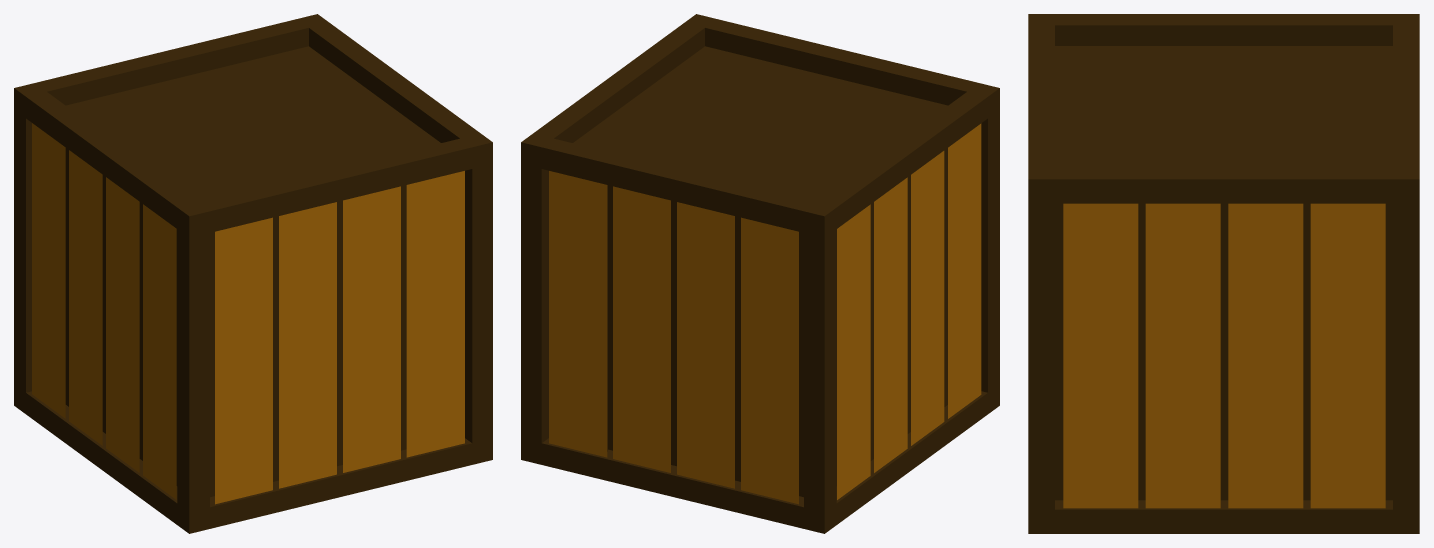
File: Crate.fbx
3 views of the same model, side by side, from view 1: azimuth 30°, elevation 25°; view 2: azimuth 150°, elevation 25°; view 3: azimuth 270°, elevation 25° (orthographic). The views are drawn at different scales.
Visible parts, largest first — view 1: Crate; view 2: Crate; view 3: Crate.
Boxes of the visible parts, box(x1,y1,x2,y2) form: Crate: box(14, 14, 492, 533); Crate: box(521, 14, 999, 533); Crate: box(1028, 14, 1419, 533).
Bounding box in the file's own units: 200 × 200 × 200.
Materials: 1 (1 with a texture image).
